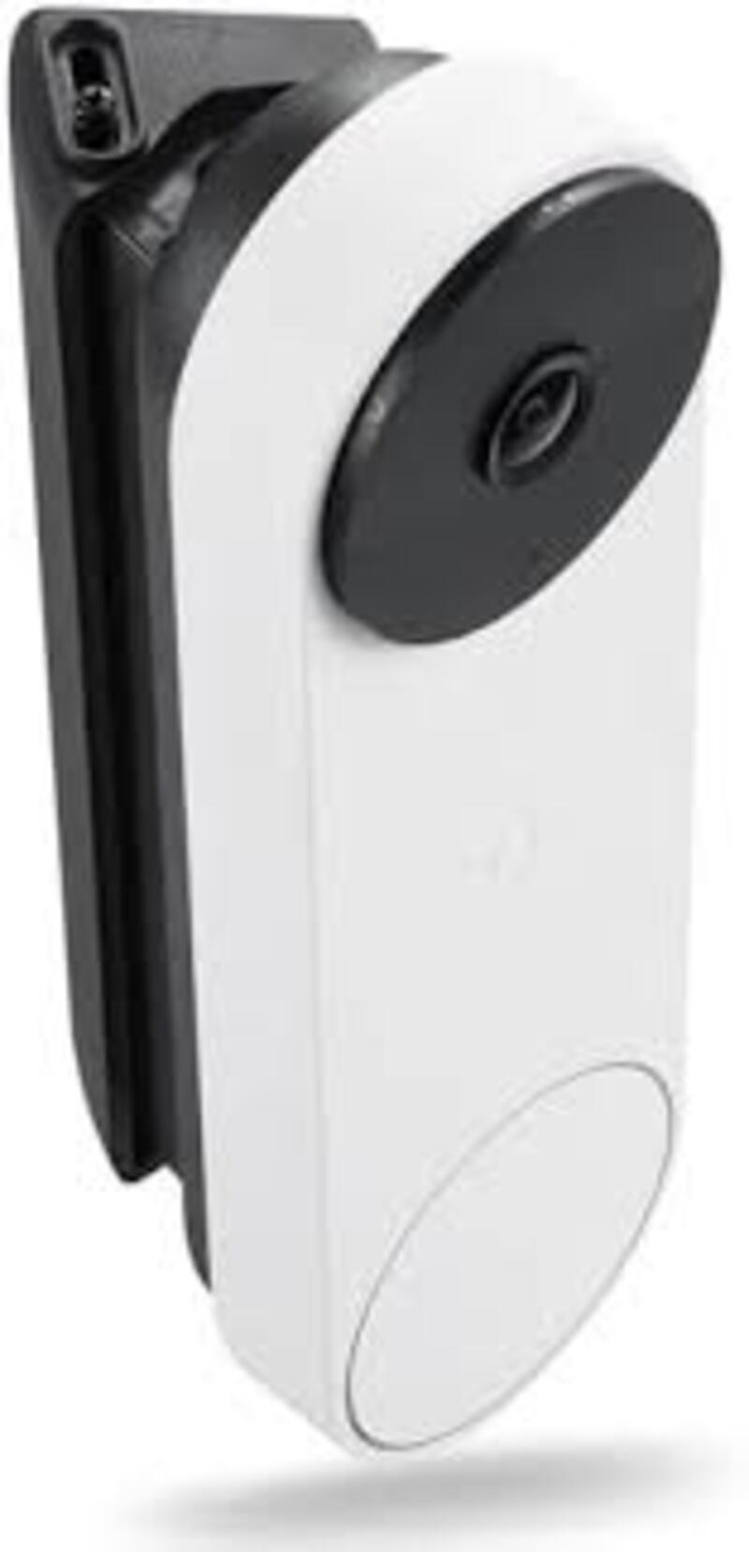doorbell: (112, 67, 747, 1534)
